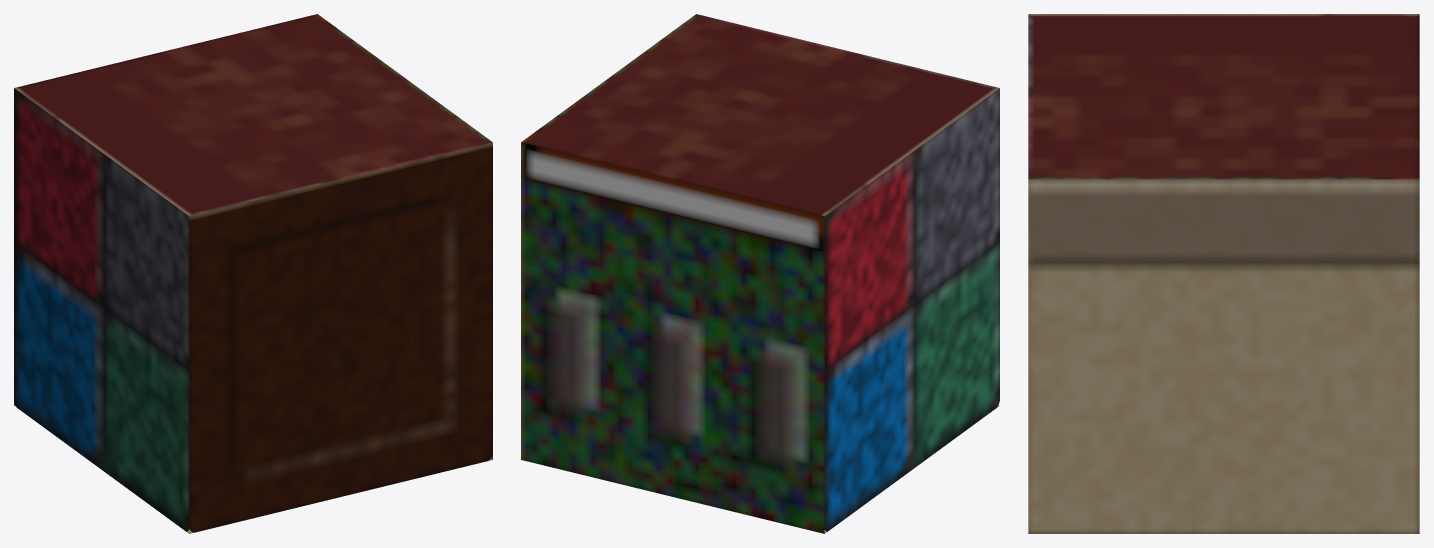
Rendered from block1.mtl.obj.
3 views of the same model, side by side, from view 1: azimuth 30°, elevation 25°; view 2: azimuth 150°, elevation 25°; view 3: azimuth 270°, elevation 25° (orthographic). The views are drawn at different scales.
Parts seen in each view (by area): view 1: Cube; view 2: Cube; view 3: Cube.
Part boxes in pixels (x1,y1,x2,y2): Cube: [14, 14, 492, 533]; Cube: [521, 14, 999, 533]; Cube: [1028, 14, 1419, 533].
Bounding box in the file's own units: 3 × 3 × 3.
